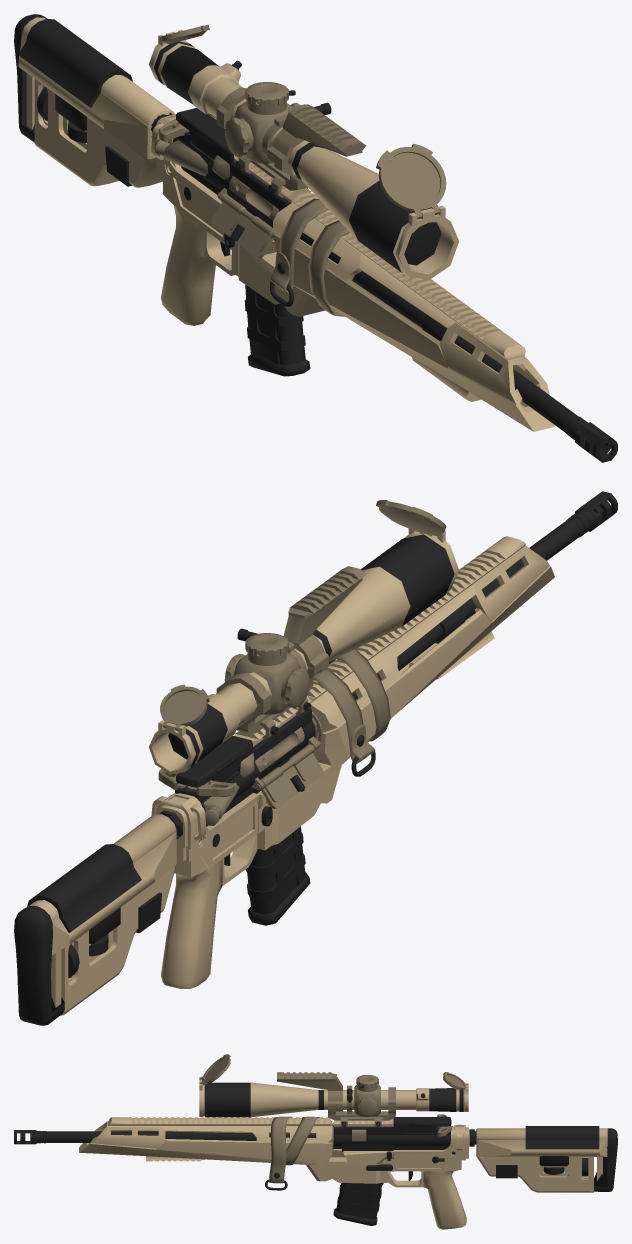
The model's file is Weapon_15.fbx.
3 views of the same model, one above another, from view 1: azimuth 30°, elevation 25°; view 2: azimuth 150°, elevation 25°; view 3: azimuth 270°, elevation 25° (orthographic). The views are drawn at different scales.
Parts seen in each view (by area): view 1: Weapon_15; view 2: Weapon_15; view 3: Weapon_15.
Boxes of the visible parts, x1,y1,x2,y2 form: Weapon_15: [14, 14, 617, 462]; Weapon_15: [14, 491, 617, 1025]; Weapon_15: [14, 1054, 617, 1229].
Size of the model in its own units: 13.64 by 47.26 by 153.
